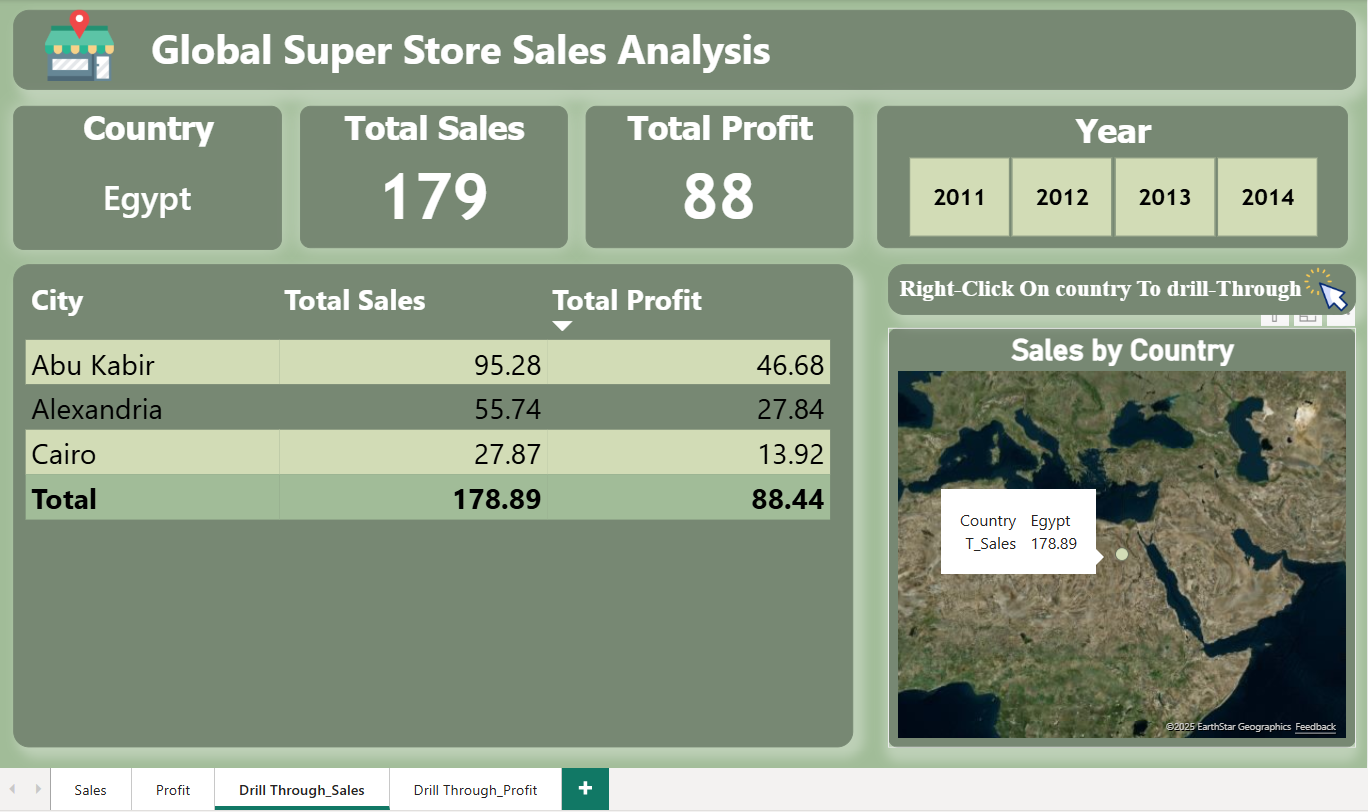

Layout of this report page (visuals, bound fields, positions):
{"tool":"powerbi","page":{"name":"Drill Through_Sales","canvas":[1280,720],"ordinal":2},"visuals":[{"type":"textbox","box":[12.4,10.1,1257.5,75.3],"z":0},{"type":"image","box":[20.2,10.1,107.9,66.3],"z":1000},{"type":"cardVisual","title":"Country","fields":{"Data":["Min(Orders.Country)"]},"box":[12.4,100,251.7,134.9],"z":2000},{"type":"cardVisual","title":"Total Sales","fields":{"Data":["Dax Measure.T_Sales"]},"box":[280.9,100,250.6,133.7],"z":3000},{"type":"cardVisual","title":"Total Profit","fields":{"Data":["Dax Measure.T_profit"]},"box":[548.4,100,250.6,133.7],"z":4000},{"type":"slicer","title":"Year","fields":{"Values":["Orders.Order Date.Variation.Date Hierarchy.Year"]},"box":[821.5,100,440.5,133.7],"z":5000},{"type":"azureMap","title":"Sales by Country","fields":{"Category":["Orders.Country"],"Size":["Dax Measure.T_Sales"]},"box":[831.6,307.9,438.3,393.3],"z":6000},{"type":"textbox","box":[831.6,248.4,438.3,47.2],"z":7000},{"type":"image","box":[1221.5,248.4,40.5,47.2],"z":8000},{"type":"tableEx","fields":{"Values":["Orders.City","Sum(Orders.Sales)","Sum(Orders.Profit)"]},"box":[12.4,248.4,786.6,452.9],"z":10000}]}

Visuals, with their boxes on the page's 1280x720 design canvas (x1, y1, x2, y2). These are canvas units, not pixel positions in the 1368x812 screenshot, which may show the page scaled, cropped or inside an application window:
textbox: crop(12, 10, 1270, 85)
image: crop(20, 10, 128, 76)
"Country" cardVisual: crop(12, 100, 264, 235)
"Total Sales" cardVisual: crop(281, 100, 532, 234)
"Total Profit" cardVisual: crop(548, 100, 799, 234)
"Year" slicer: crop(822, 100, 1262, 234)
"Sales by Country" azureMap: crop(832, 308, 1270, 701)
textbox: crop(832, 248, 1270, 296)
image: crop(1222, 248, 1262, 296)
tableEx - Orders.City x Sum(Orders.Sales): crop(12, 248, 799, 701)
